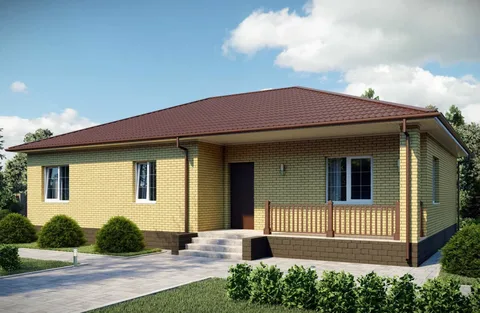private_hause: (22, 111, 455, 264)
